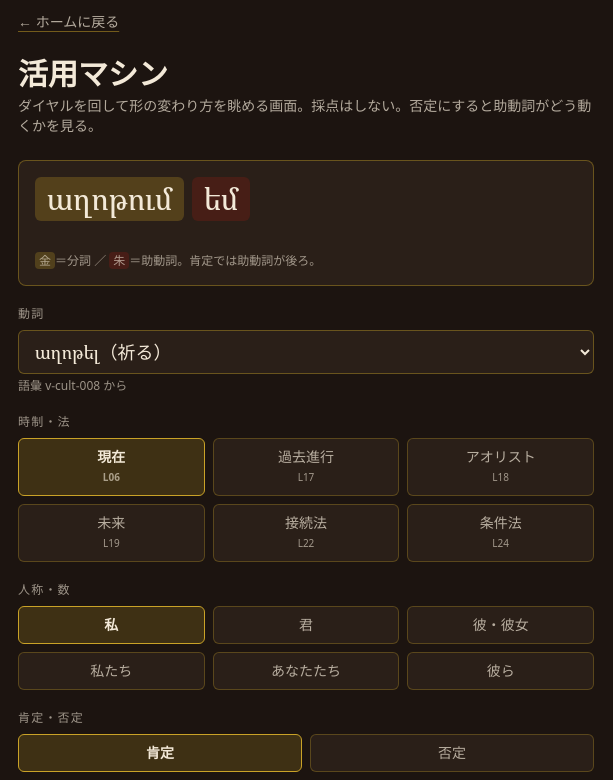
Test: ConjugationMachine › uses the exceptions dictionary rather than the rule for an irregular aorist
Select "ուտել（食べる）" in the dropdown at (306, 352), box x1=18 y1=330 x2=594 y2=374
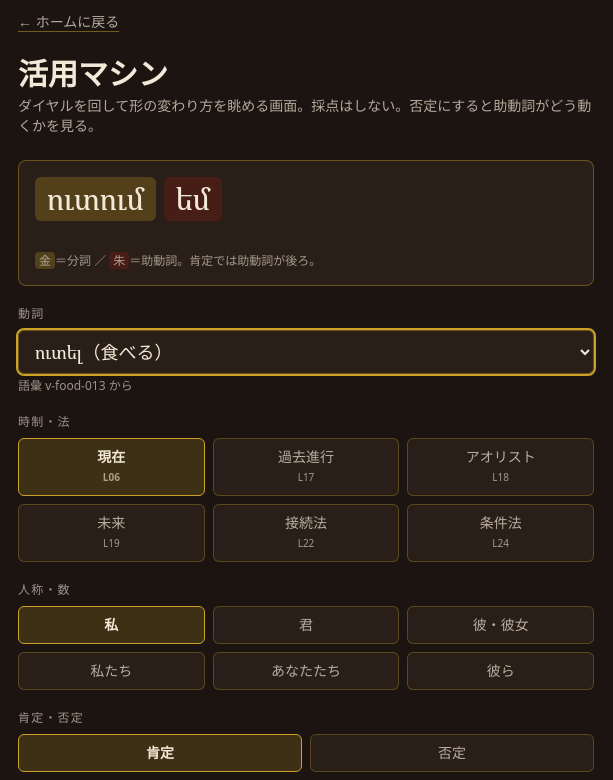
Click the button "アオリスト L18".
click(501, 467)  # box x1=407 y1=438 x2=594 y2=496
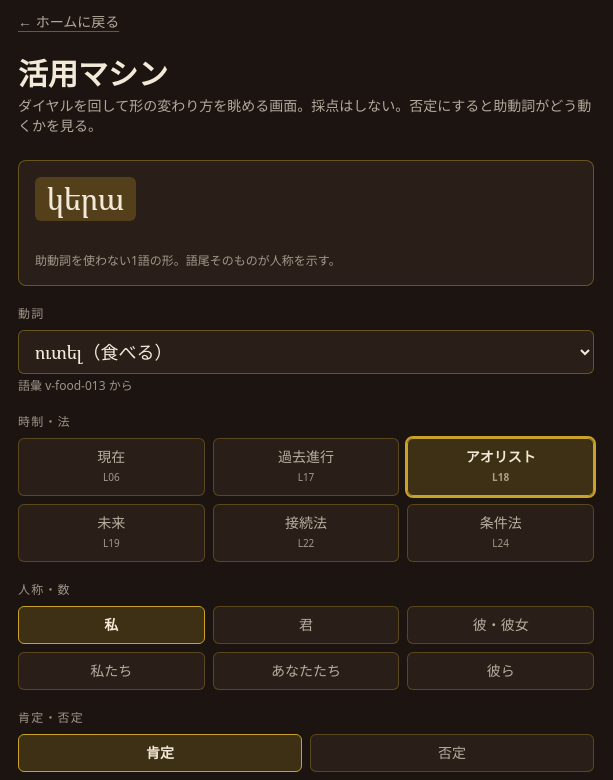
Result: the text "կերա" is shown at x1=35 y1=177 x2=136 y2=221
